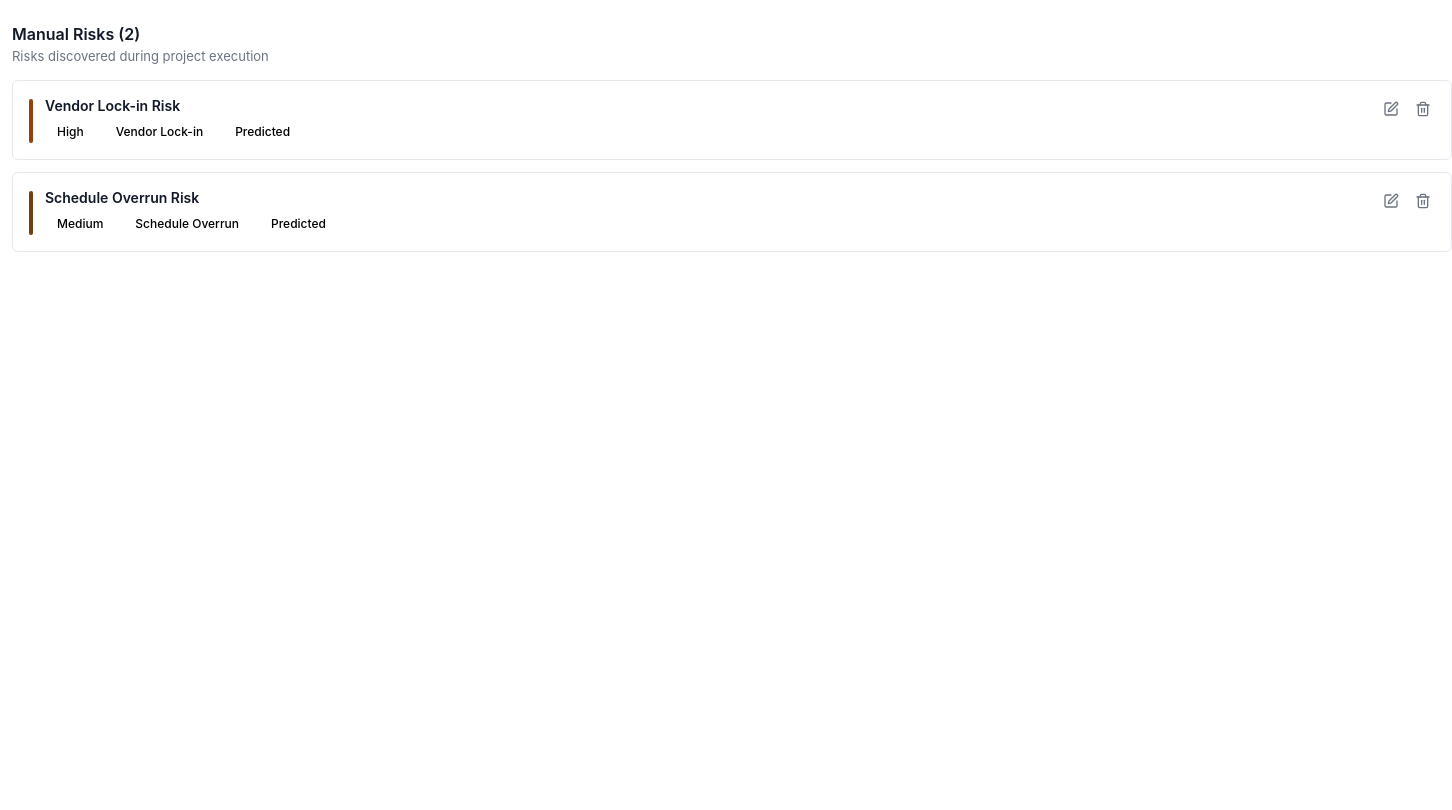
Scenario: ManualRisksList Component › Interactions › should expand risk details on click
Click the button "Vendor Lock-in Risk".
click(113, 106)  # box [29,97,1435,143]
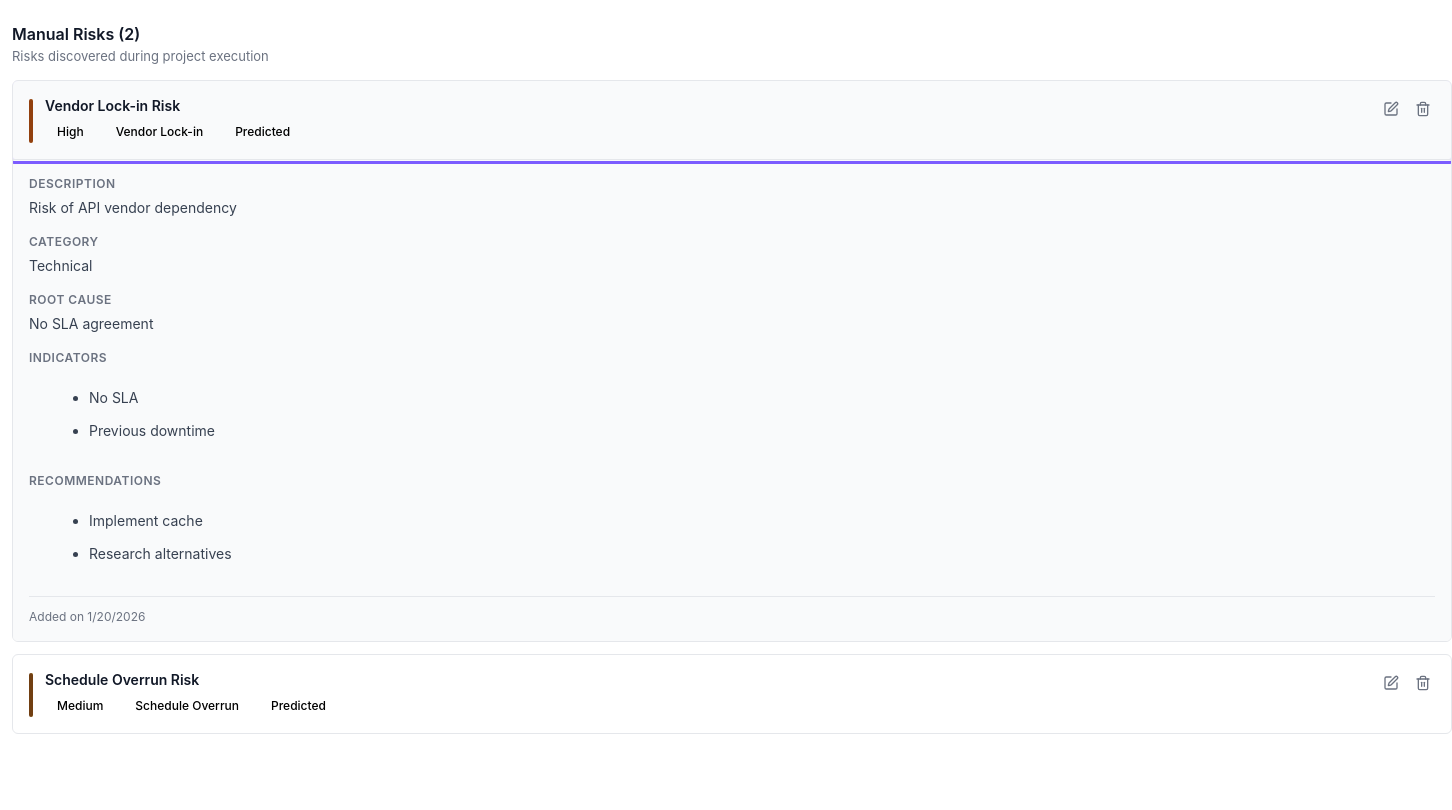
Expected: the text "Risk of API vendor dependency" is shown, [29,199,237,216]
Expected: the text "No SLA agreement" is shown, [29,315,154,332]
